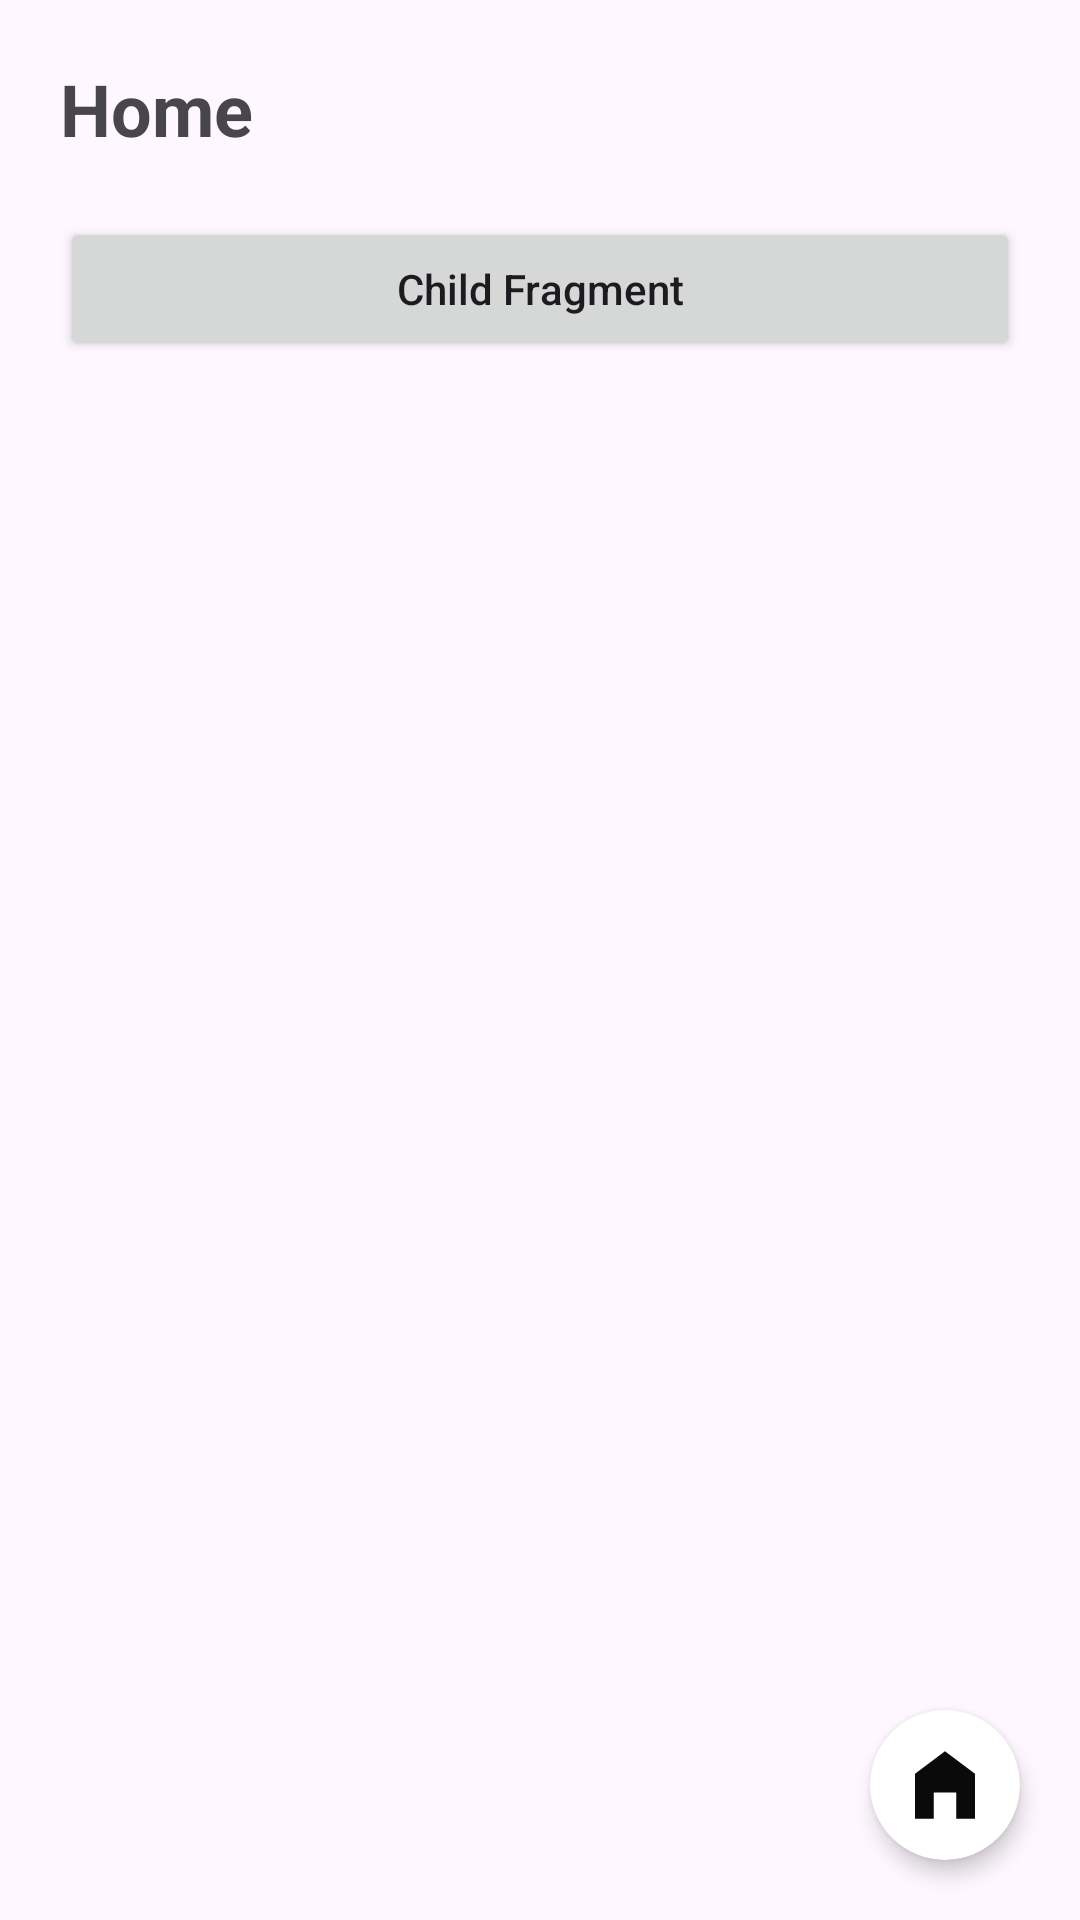

Icon bounding boxes for this 1080 × 1920 phone screenshot, format (x1, y1, x2, y2):
home: (915, 1751, 975, 1819)
